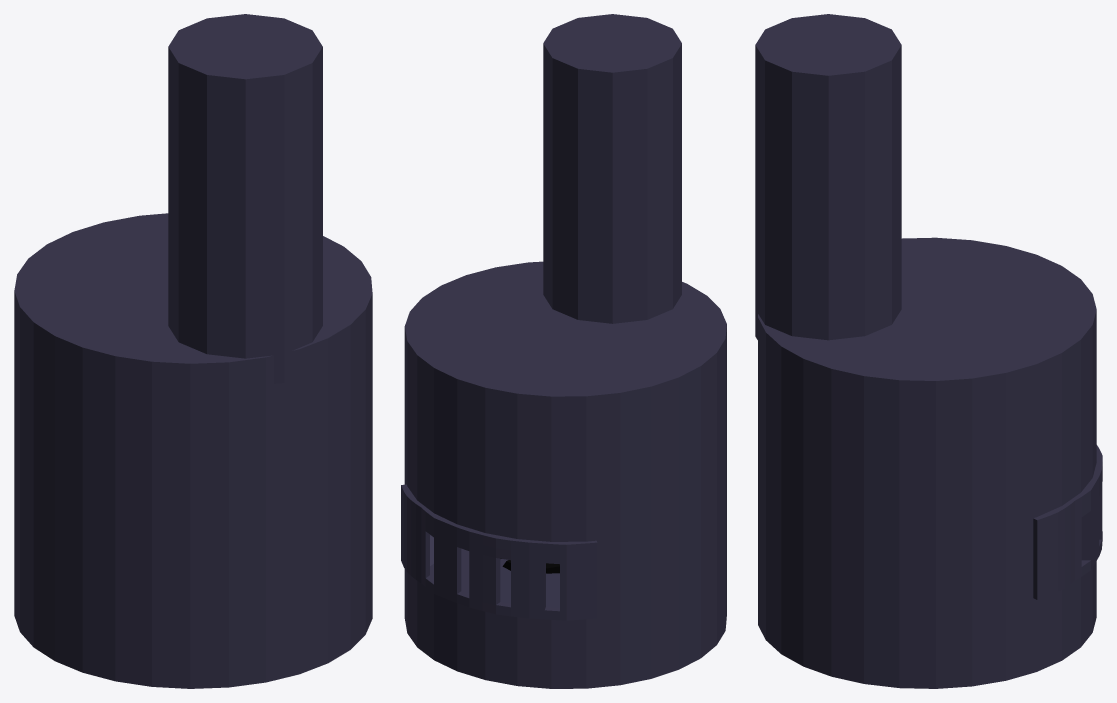
The model's file is stove2.fbx.
3 renders of one model, left to right at view 1: azimuth 30°, elevation 25°; view 2: azimuth 150°, elevation 25°; view 3: azimuth 270°, elevation 25°, orthographic. The views are drawn at different scales.
Visible parts, largest first — view 1: Stove; view 2: Stove, Stove part; view 3: Stove, Stove part.
Boxes of the visible parts, left/top/right/bottom form: Stove: left=14, top=14, right=372, bottom=688; Stove: left=404, top=14, right=726, bottom=688; Stove part: left=401, top=484, right=597, bottom=620; Stove: left=755, top=14, right=1096, bottom=688; Stove part: left=1033, top=445, right=1102, bottom=599.
Bounding box in the file's own units: 200 × 372 × 204.
